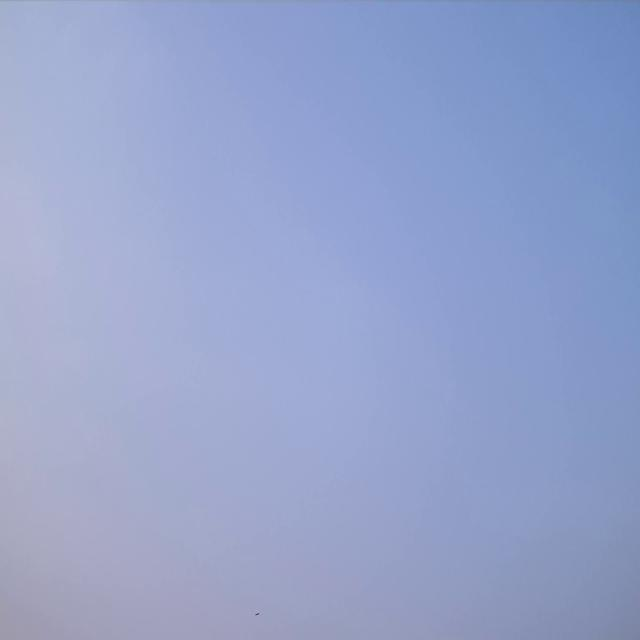UAV: (254, 612, 260, 616)
